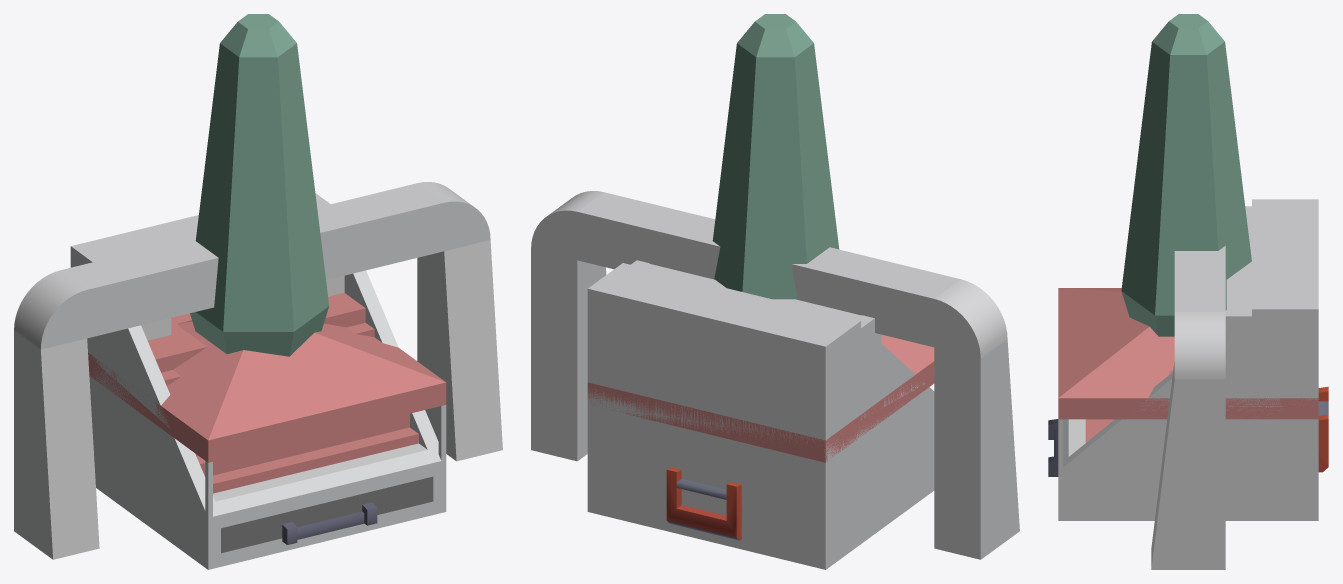
Rendered from bowling-kit.glb.
3 views of the same model, side by side, from view 1: azimuth 30°, elevation 25°; view 2: azimuth 150°, elevation 25°; view 3: azimuth 270°, elevation 25° (orthographic). The views are drawn at different scales.
Visible parts, largest first — view 1: Gantry, Stand, Tree, Tent, Car; view 2: Stand, Gantry, Tree, Tent, Car; view 3: Stand, Tree, Gantry, Tent, Car.
Boxes of the visible parts, bbox=[...] form: Gantry: bbox=[14, 182, 502, 559]; Stand: bbox=[70, 193, 445, 568]; Tree: bbox=[190, 14, 329, 356]; Tent: bbox=[88, 320, 446, 569]; Car: bbox=[282, 502, 377, 544]; Stand: bbox=[587, 260, 934, 569]; Gantry: bbox=[531, 191, 1019, 559]; Tree: bbox=[712, 14, 839, 299]; Tent: bbox=[587, 334, 934, 569]; Car: bbox=[666, 467, 741, 540]; Stand: bbox=[1059, 199, 1318, 520]; Tree: bbox=[1121, 14, 1251, 336]; Gantry: bbox=[1151, 246, 1225, 569]; Tent: bbox=[1058, 288, 1318, 520]; Car: bbox=[1048, 386, 1328, 476].
Bounding box in the file's own units: 7.56 × 7.53 × 4.3.
